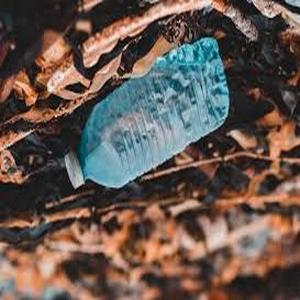Plastic: (60, 34, 231, 197)
